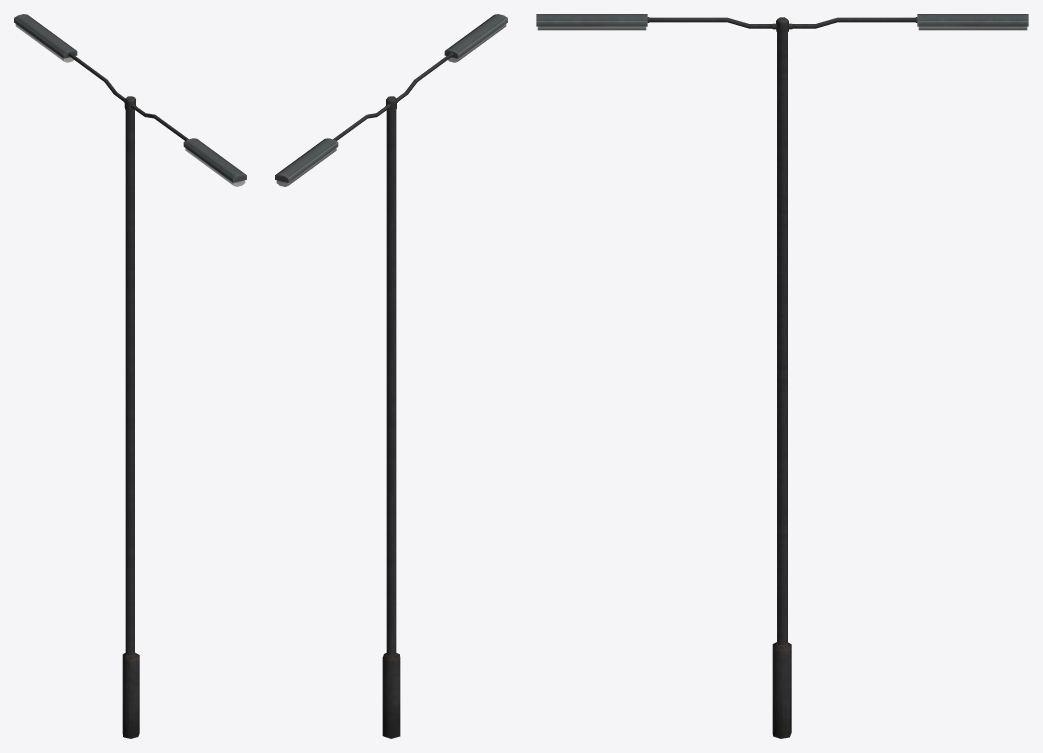
The model's file is Overhanging_Street_and_Sidewalk_-_Light_off.glb.
The picture shows the model from 3 angles, left to right: view 1: azimuth 30°, elevation 25°; view 2: azimuth 150°, elevation 25°; view 3: azimuth 270°, elevation 25°; orthographic projection. The views are drawn at different scales.
Visible parts, largest first — view 1: Overhanging_Street_And_Sidewalk_Light_Off__LOD3; view 2: Overhanging_Street_And_Sidewalk_Light_Off__LOD3; view 3: Overhanging_Street_And_Sidewalk_Light_Off__LOD3.
Boxes of the visible parts, bbox=[...] form: Overhanging_Street_And_Sidewalk_Light_Off__LOD3: bbox=[14, 14, 246, 738]; Overhanging_Street_And_Sidewalk_Light_Off__LOD3: bbox=[275, 14, 507, 738]; Overhanging_Street_And_Sidewalk_Light_Off__LOD3: bbox=[536, 14, 1028, 738].
Size of the model in its own units: 0.2024 by 7.55 by 4.69.
1 material, 1 textured.
